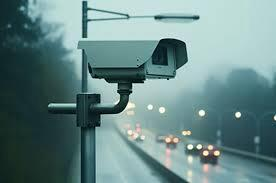Speed-Camera: (75, 36, 193, 86)
